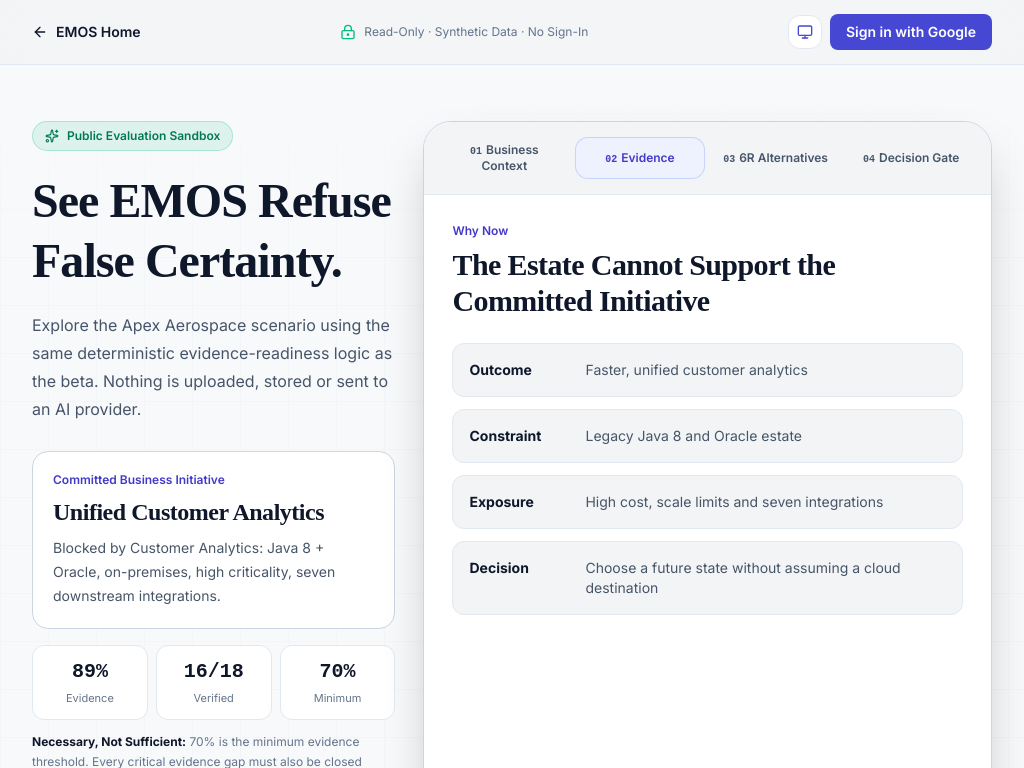
Test: Public Governance Routes (/privacy & /terms) › shows the necessary-but-not-sufficient gate as synthetic evidence improves
Earlier steps of the test are not shown.
Click the tab "04Decision Gate".
click(911, 158)  # box x1=847 y1=138 x2=975 y2=178
(page scrolled)
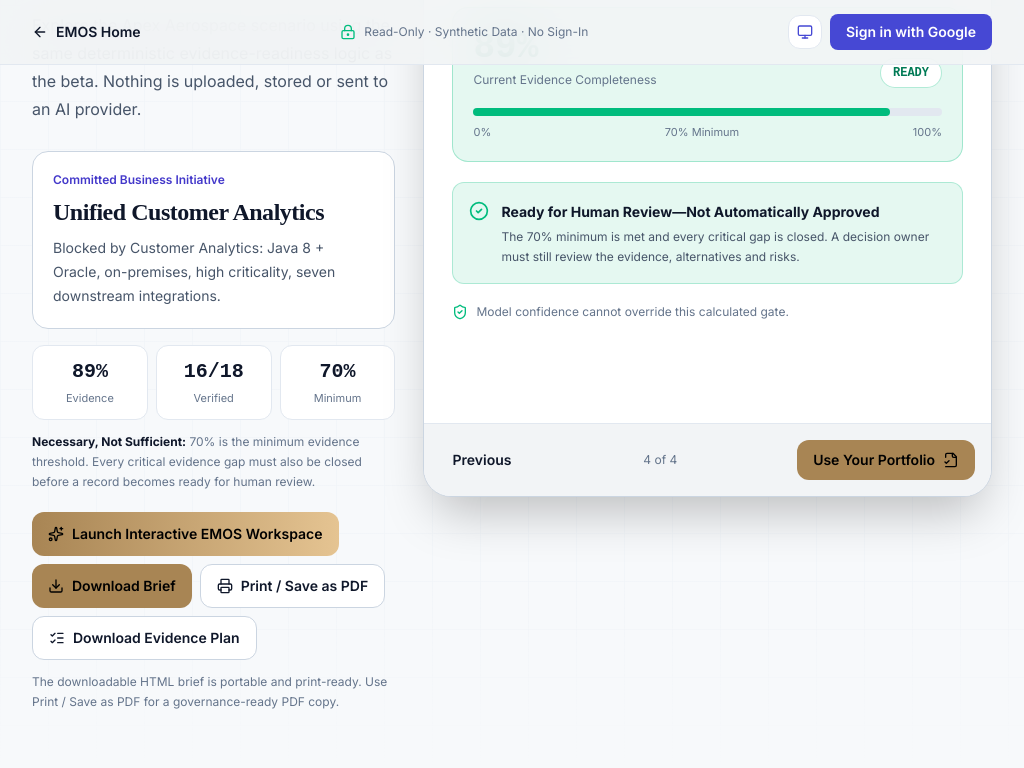
Now the text "89%" is shown, box x1=72 y1=360 x2=108 y2=383
Now the text "Ready for Human Review—Not Automatically Approved" is shown, box x1=502 y1=202 x2=880 y2=220
